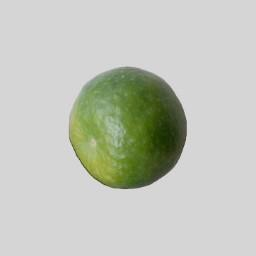Unripe: (69, 67, 187, 189)
